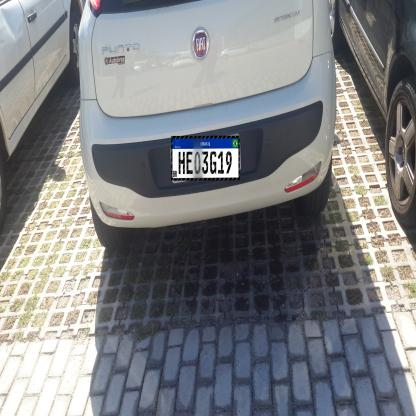PlacaM: (171, 136, 240, 180)
